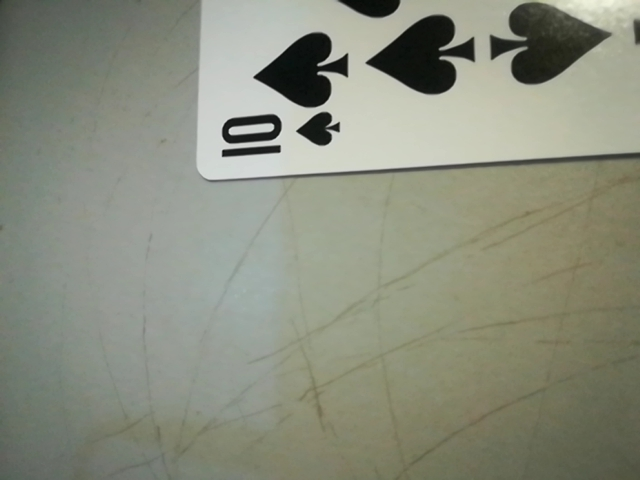ht 10: (202, 92, 356, 172)
